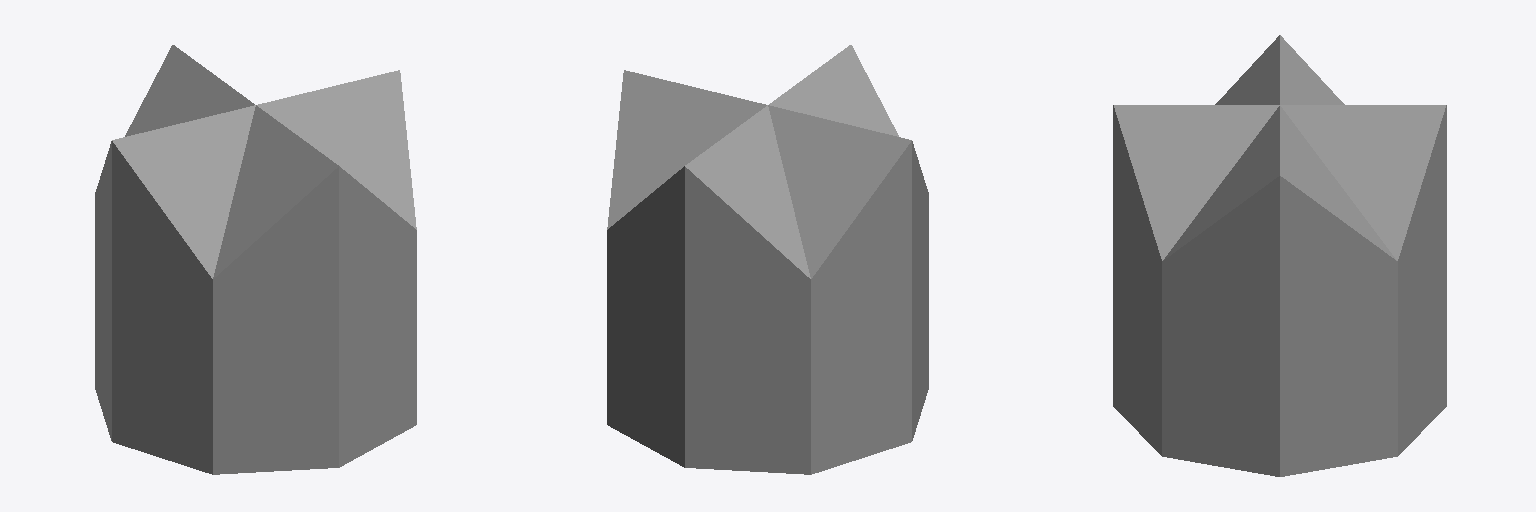
File: big_pillar_side.obj
3 views of the same model, side by side, from view 1: azimuth 30°, elevation 25°; view 2: azimuth 150°, elevation 25°; view 3: azimuth 270°, elevation 25° (orthographic).
Parts seen in each view (by area): view 1: down_3; view 2: down_3; view 3: down_3.
Boxes of the visible parts, box(x1,y1,x2,y2) form: down_3: box(95, 45, 416, 474); down_3: box(607, 45, 928, 474); down_3: box(1113, 35, 1446, 476).
Size of the model in its own units: 0.5 by 0.5 by 0.5.